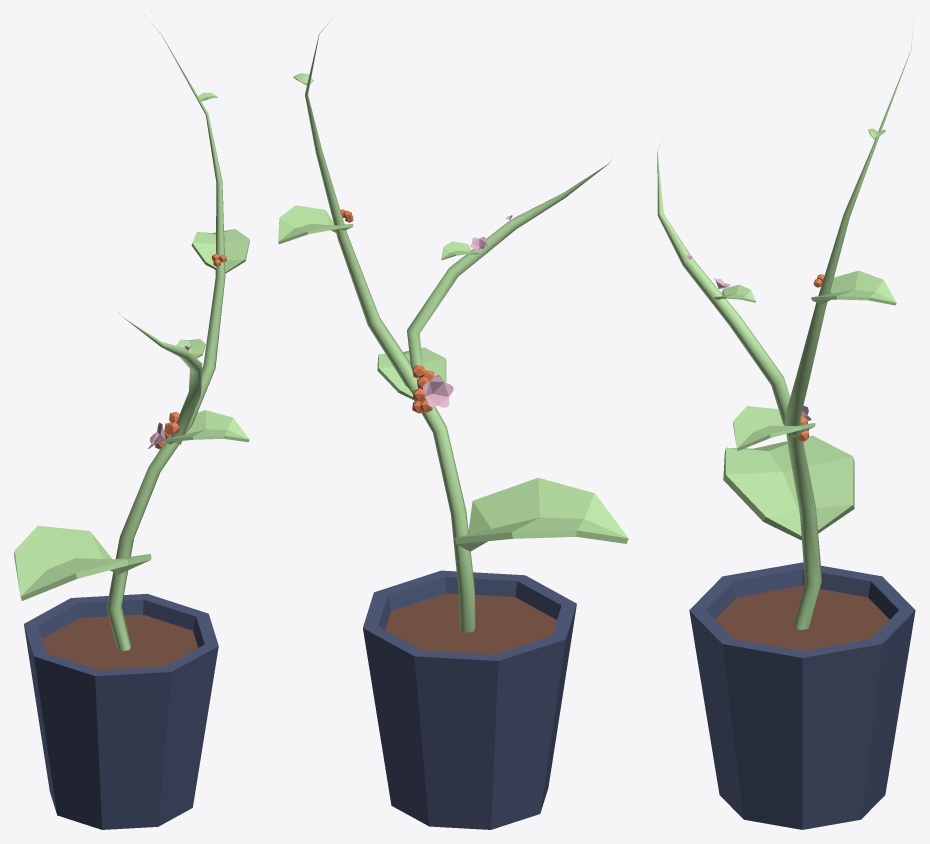
File: Level2.2.fbx
3 views of the same model, side by side, from view 1: azimuth 30°, elevation 25°; view 2: azimuth 150°, elevation 25°; view 3: azimuth 270°, elevation 25° (orthographic). The views are drawn at different scales.
Visible parts, largest first — view 1: Pot, Stem1, Leaf1, Leaf3, Stem2, Leaf2, Berries.002; view 2: Pot, Leaf1, Stem1, Stem2, Leaf3, Leaf2, Flower, Berries.002; view 3: Pot, Leaf1, Stem1, Stem2, Leaf2, Leaf3.
Boxes of the visible parts, x1,y1,x2,y2 form: Pot: [24, 593, 218, 829]; Stem1: [106, 15, 225, 650]; Leaf1: [14, 526, 151, 600]; Leaf3: [191, 229, 249, 273]; Stem2: [118, 312, 202, 444]; Leaf2: [165, 410, 249, 444]; Berries.002: [155, 254, 226, 449]; Pot: [363, 570, 576, 829]; Leaf1: [455, 477, 628, 551]; Stem1: [305, 18, 475, 632]; Stem2: [407, 161, 610, 380]; Leaf3: [278, 205, 353, 244]; Leaf2: [377, 347, 446, 400]; Flower: [423, 215, 512, 407]; Berries.002: [340, 209, 434, 413]; Pot: [689, 562, 915, 829]; Leaf1: [723, 435, 854, 540]; Stem1: [784, 15, 914, 629]; Stem2: [657, 144, 797, 437]; Leaf2: [733, 406, 815, 450]; Leaf3: [811, 270, 896, 305].
Size of the model in its own units: 500 by 1309 by 374.
